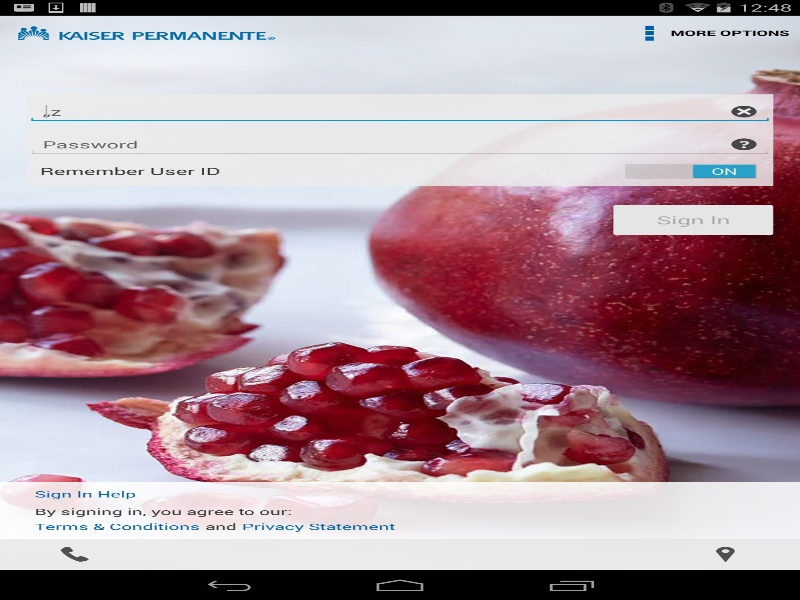Button: (613, 205, 773, 235)
Input: (26, 100, 773, 123), (26, 133, 773, 156)
